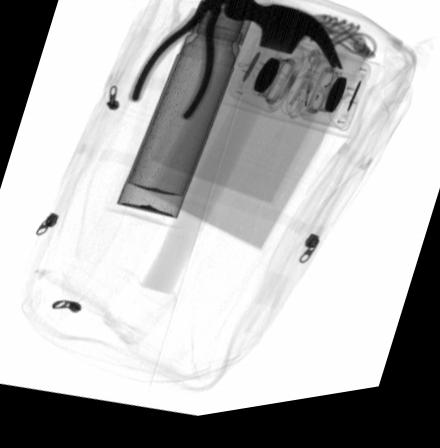Hammer: (138, 1, 343, 303)
Pliers: (127, 0, 233, 127)
